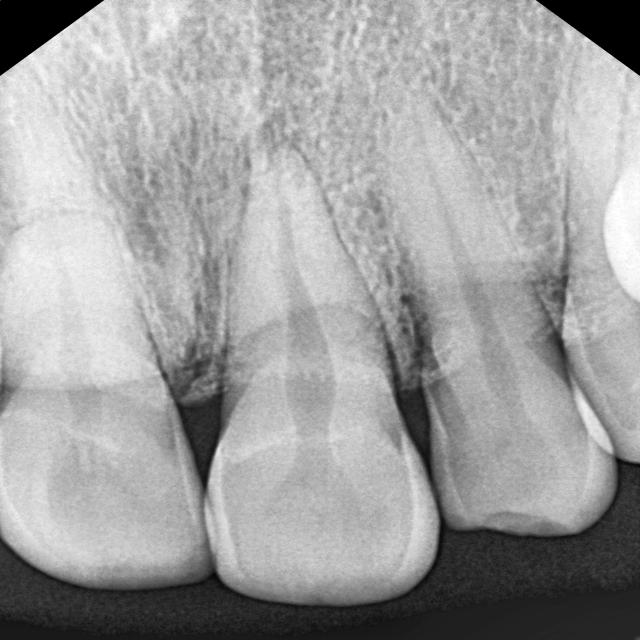Normal: (197, 126, 443, 622), (7, 138, 212, 606), (432, 103, 624, 580)
